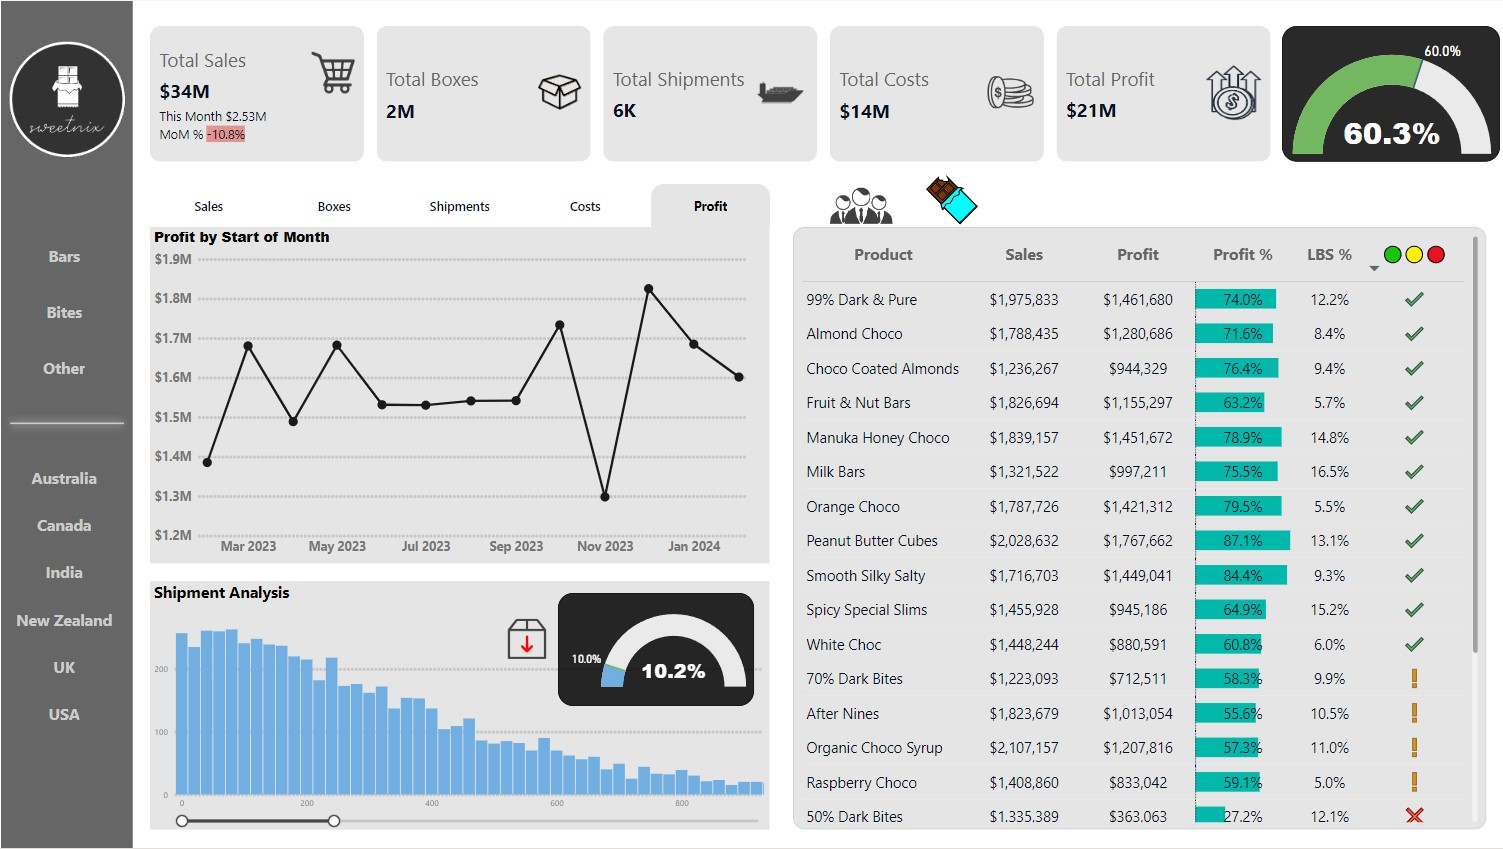

Layout of this report page (visuals, bound fields, positions):
{"tool":"powerbi","page":{"name":"SweetNix DashB","canvas":[1920,1080],"ordinal":6},"visuals":[{"type":"shape","box":[0,0,168.3,1080],"z":0},{"type":"cardVisual","fields":{"Data":["_Measures.Total Sales","_Measures.Total Boxes","_Measures.Total Shipments","_Measures.Total Costs","_Measures.Total Profit"]},"box":[185.1,31.7,1441.7,173.3],"z":1000},{"type":"gauge","fields":{"Y":["_Measures.Profit %"]},"box":[1633.4,31.7,278.3,173.3],"z":2000},{"type":"lineChart","fields":{"Y":["_Measures.Total Profit"],"Category":["calendar.Start of Month"]},"box":[190,288.6,790,428.6],"z":3000},{"type":"advancedSlicerVisual","fields":{"Values":["Measure Selector.Measure Selector"]},"box":[188.8,228.8,792.5,60],"z":4000},{"type":"columnChart","title":"Shipment Analysis","fields":{"Category":["shipments.Boxes (bins)"],"Y":["_Measures.Total Shipments"]},"box":[190,740,790,317.1],"z":5000},{"type":"gauge","fields":{"Y":["_Measures.LBS %"]},"box":[710,754.3,250,144.3],"z":6000},{"type":"image","box":[631.4,782.9,78.6,61.4],"z":7000},{"type":"tableEx","title":"Product Details","fields":{"Values":["products.Product","_Measures.Total Sales","_Measures.Total Profit","_Measures.Profit %","_Measures.LBS %","_Measures.Profit Target Indicator"]},"box":[1010.1,287.9,884.4,768.3],"z":9000},{"type":"advancedSlicerVisual","fields":{"Values":["products.Category"]},"box":[0,288.3,161.7,215],"z":11000},{"type":"advancedSlicerVisual","fields":{"Values":["locations.Geo"]},"box":[0,576.7,161.7,363.3],"z":12000},{"type":"image","box":[0,45.6,168.8,159.1],"z":13000},{"type":"shape","box":[0,520.2,168.6,36.6],"z":14000},{"type":"image","title":"People NotSelected","box":[1051.8,222.7,90,71.8],"z":15000},{"type":"image","title":"Product NotSelected","box":[1167.3,216.4,91.8,72.7],"z":16000},{"type":"image","title":"Product","box":[1167.3,216.4,90.9,71.8],"z":17000}]}

Visuals, with their boxes in screenshot pixels (x1, y1, x2, y2), scaled from the page's 1920x1080 canvas onto the 1503x849 screenshot:
shape: BBox(0, 0, 132, 848)
cardVisual - _Measures.Total Sales x _Measures.Total Boxes: BBox(145, 25, 1273, 161)
gauge - _Measures.Profit %: BBox(1279, 25, 1497, 161)
lineChart - _Measures.Total Profit x calendar.Start of Month: BBox(149, 227, 767, 564)
advancedSlicerVisual - Measure Selector.Measure Selector: BBox(148, 180, 768, 227)
"Shipment Analysis" columnChart: BBox(149, 582, 767, 831)
gauge - _Measures.LBS %: BBox(556, 593, 752, 706)
image: BBox(494, 615, 556, 664)
"Product Details" tableEx: BBox(791, 226, 1483, 830)
advancedSlicerVisual - products.Category: BBox(0, 227, 127, 396)
advancedSlicerVisual - locations.Geo: BBox(0, 453, 127, 739)
image: BBox(0, 36, 132, 161)
shape: BBox(0, 409, 132, 438)
"People NotSelected" image: BBox(823, 175, 894, 232)
"Product NotSelected" image: BBox(914, 170, 986, 227)
"Product" image: BBox(914, 170, 985, 227)
